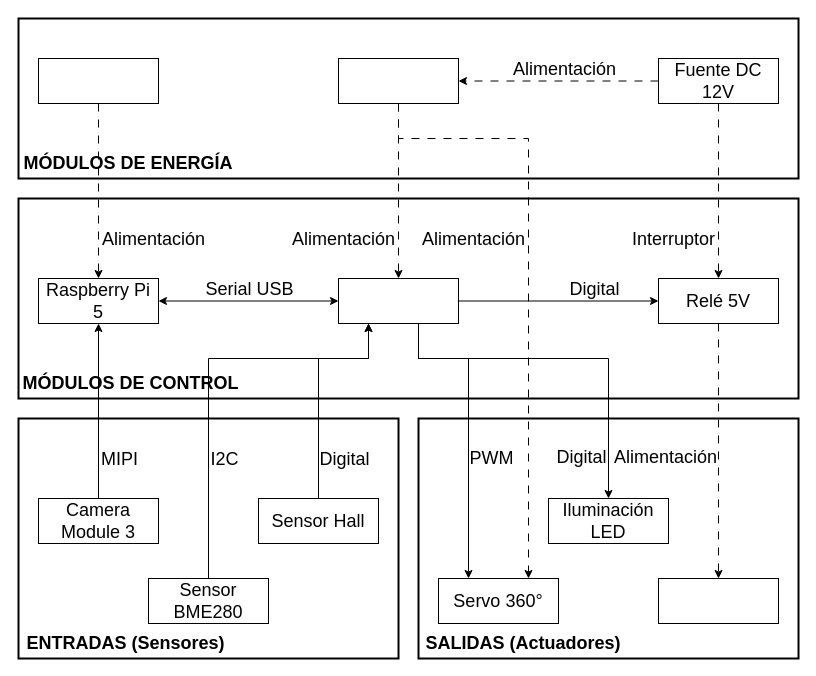
The diagram is 816 pixels wide and 676 high, and some of its shapes have lost their labels. Each missing label, with the centre of its shape:
Arduino Uno R3: point (398, 301)
Fuente DC 5V/5A: point (98, 81)
Regulador de Voltaje: point (398, 81)
Ventilador: point (718, 601)
